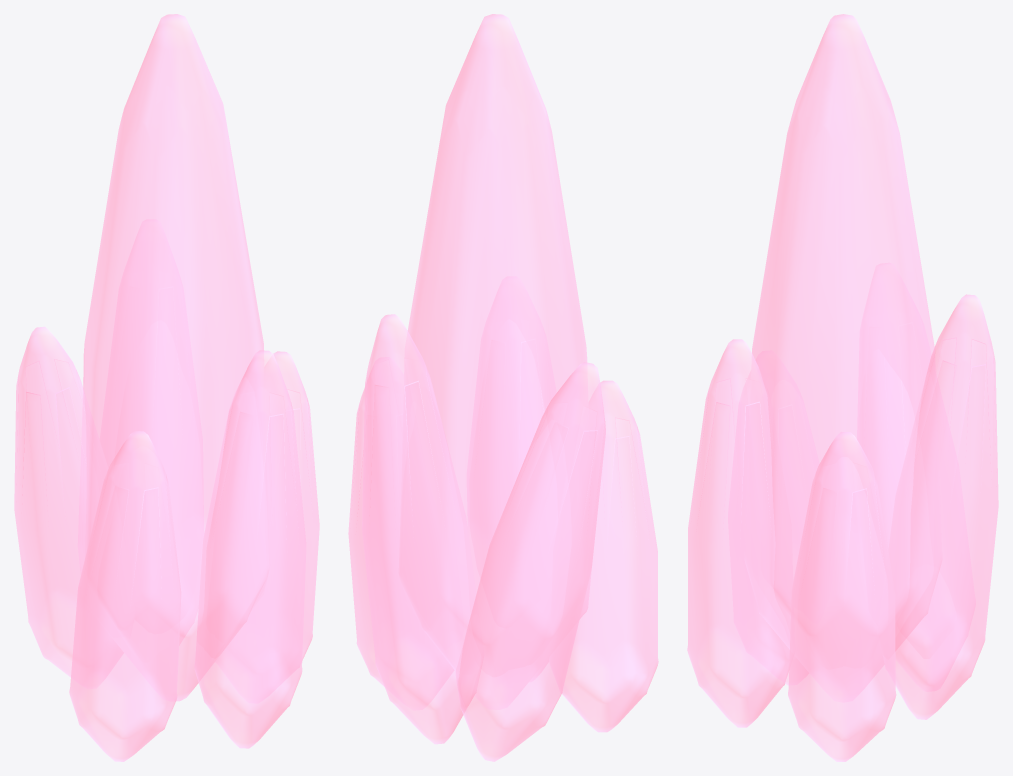
Rendered from material_crystal_red_v3.glb.
3 views of the same model, side by side, from view 1: azimuth 30°, elevation 25°; view 2: azimuth 150°, elevation 25°; view 3: azimuth 270°, elevation 25° (orthographic).
Visible parts, largest first — view 1: item_crystal_red_main, item_crystal_red_c4, item_crystal_red_c3, item_crystal_red_c2, item_crystal_red_c1, item_crystal_red_c0; view 2: item_crystal_red_main, item_crystal_red_c1, item_crystal_red_c2, item_crystal_red_c3, item_crystal_red_c0, item_crystal_red_c4; view 3: item_crystal_red_main, item_crystal_red_c1, item_crystal_red_c4, item_crystal_red_c0, item_crystal_red_c2, item_crystal_red_c3.
Part boxes in pixels (box(x1,y1,x2,y2)): item_crystal_red_main: box(78, 14, 269, 701); item_crystal_red_c4: box(194, 350, 306, 748); item_crystal_red_c3: box(69, 431, 181, 761); item_crystal_red_c2: box(14, 326, 123, 688); item_crystal_red_c1: box(100, 220, 203, 644); item_crystal_red_c0: box(216, 351, 319, 702); item_crystal_red_main: box(398, 14, 591, 709); item_crystal_red_c1: box(362, 314, 483, 744); item_crystal_red_c2: box(456, 362, 605, 761); item_crystal_red_c3: box(549, 380, 658, 732); item_crystal_red_c0: box(348, 357, 453, 709); item_crystal_red_c4: box(467, 276, 556, 681); item_crystal_red_main: box(744, 14, 942, 701); item_crystal_red_c1: box(883, 294, 998, 719); item_crystal_red_c4: box(687, 339, 793, 727); item_crystal_red_c0: box(788, 431, 896, 761); item_crystal_red_c2: box(857, 263, 975, 691); item_crystal_red_c3: box(728, 351, 819, 685).
Bounding box in the file's own units: 0.1708 × 0.4267 × 0.1715.
